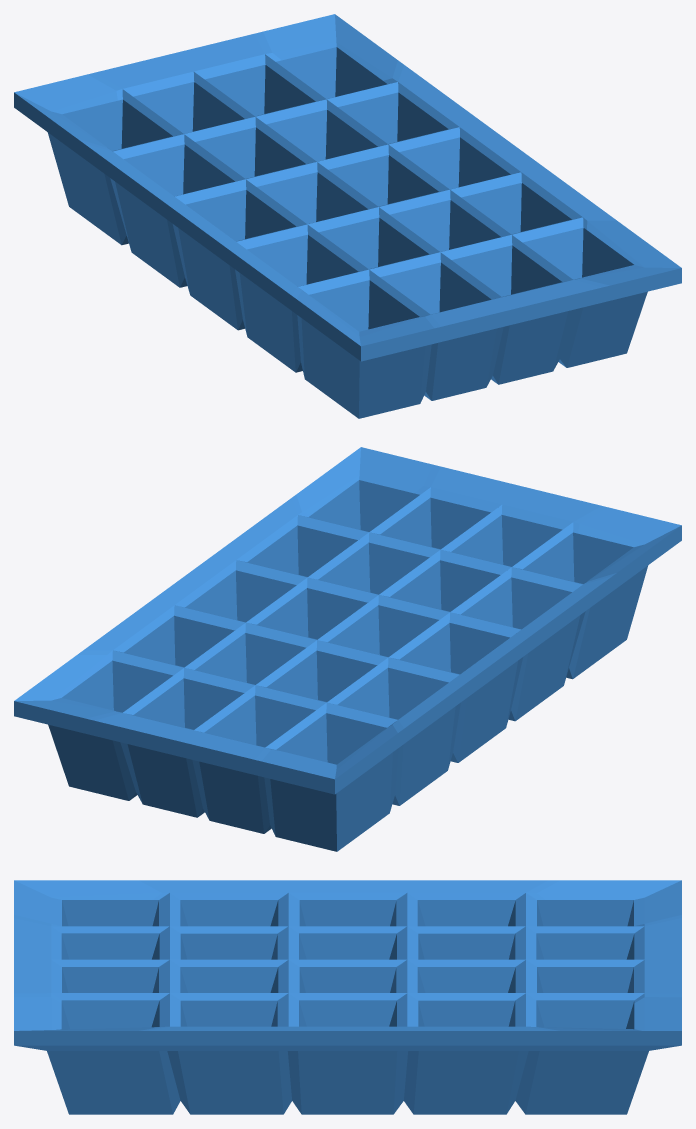
The model's file is icecubetray.fbx.
The picture shows the model from 3 angles, top to bottom: view 1: azimuth 30°, elevation 25°; view 2: azimuth 150°, elevation 25°; view 3: azimuth 270°, elevation 25°; orthographic projection. The views are drawn at different scales.
Visible parts, largest first — view 1: Cube; view 2: Cube; view 3: Cube.
Part boxes in pixels (<box>): Cube: <box>14,14,681,418</box>; Cube: <box>14,447,681,851</box>; Cube: <box>14,880,681,1114</box>.
Bounding box in the file's own units: 107 × 31.77 × 200.
